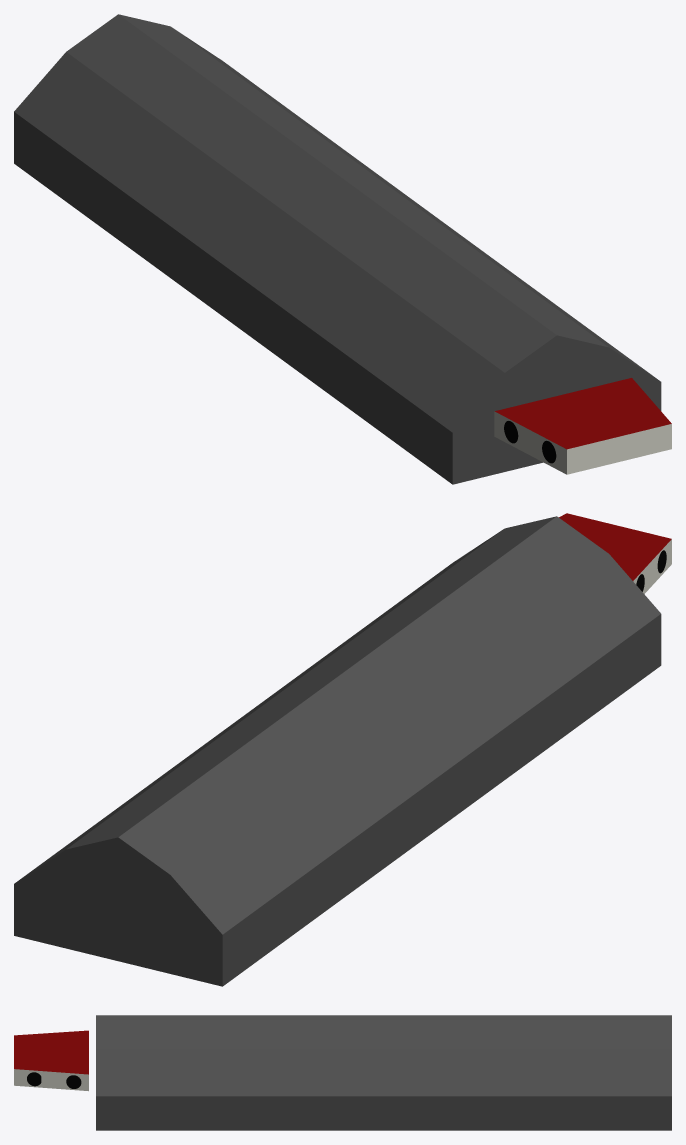
The model's file is diesel-barge-fore-cabin-and-cover.dae.
The picture shows the model from 3 angles, top to bottom: view 1: azimuth 30°, elevation 25°; view 2: azimuth 150°, elevation 25°; view 3: azimuth 270°, elevation 25°; orthographic projection. The views are drawn at different scales.
Parts seen in each view (by area): view 1: Cube_020, Cube_022; view 2: Cube_020, Cube_022; view 3: Cube_020, Cube_022.
Part boxes in pixels (x1,y1,x2,y2): Cube_020: (14,14,661,484); Cube_022: (494,378,671,474); Cube_020: (14,516,661,986); Cube_022: (559,513,671,593); Cube_020: (96,1015,671,1130); Cube_022: (14,1030,88,1091).
Bounding box in the file's own units: 1.57 × 6.54 × 0.8927.
